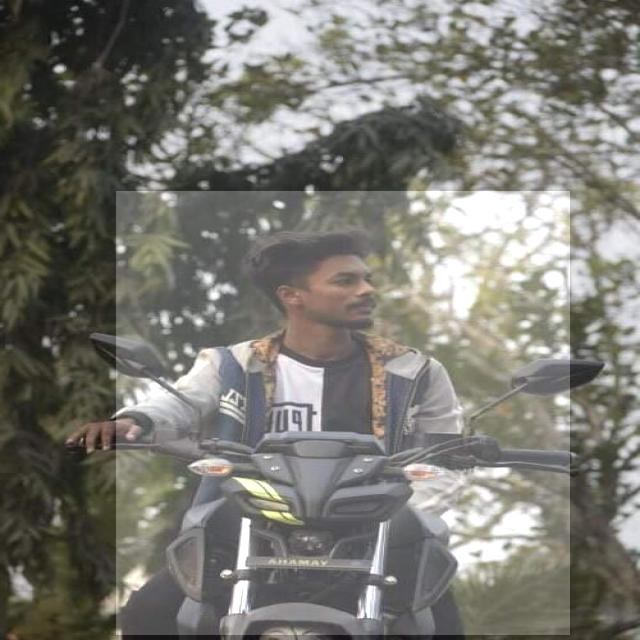No_Helmet: (116, 191, 570, 635)
